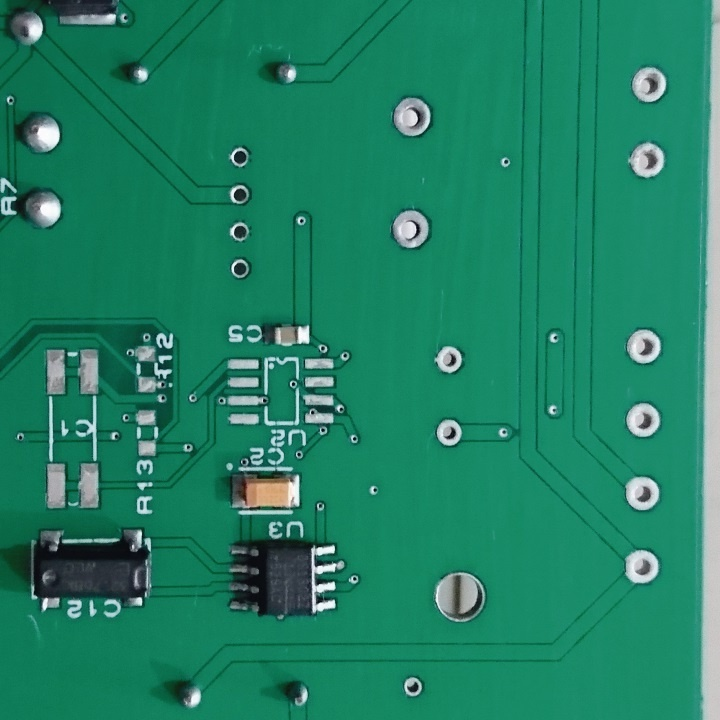F: (390, 206, 434, 252), (391, 94, 434, 139), (621, 546, 664, 587), (629, 63, 670, 106), (623, 473, 664, 514), (627, 140, 669, 180), (625, 399, 665, 440), (625, 327, 665, 366), (433, 342, 467, 377), (436, 415, 461, 447), (227, 142, 255, 170), (229, 180, 253, 209), (228, 219, 253, 243), (400, 676, 425, 700), (230, 257, 252, 280)
